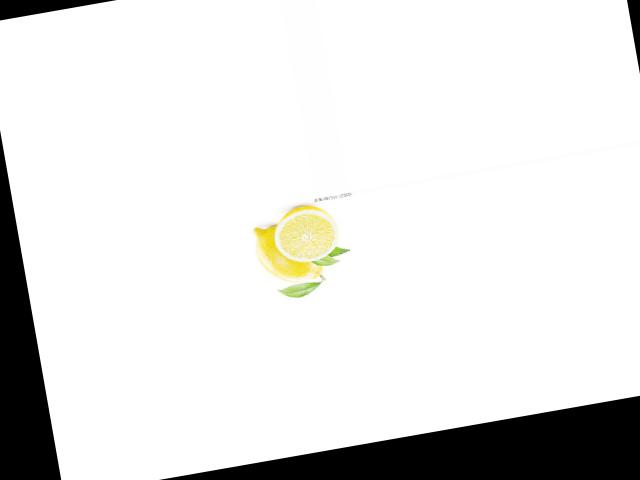lemon: (240, 214, 329, 293)
